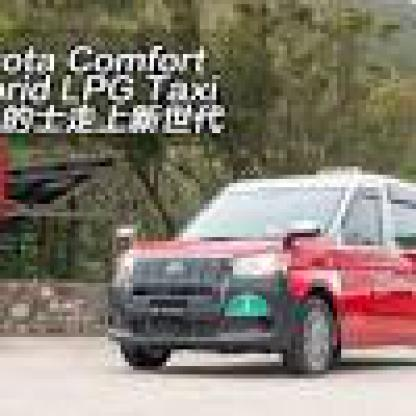taxi: (109, 159, 413, 396)
